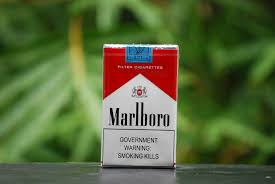marlboro: (101, 48, 177, 168)
